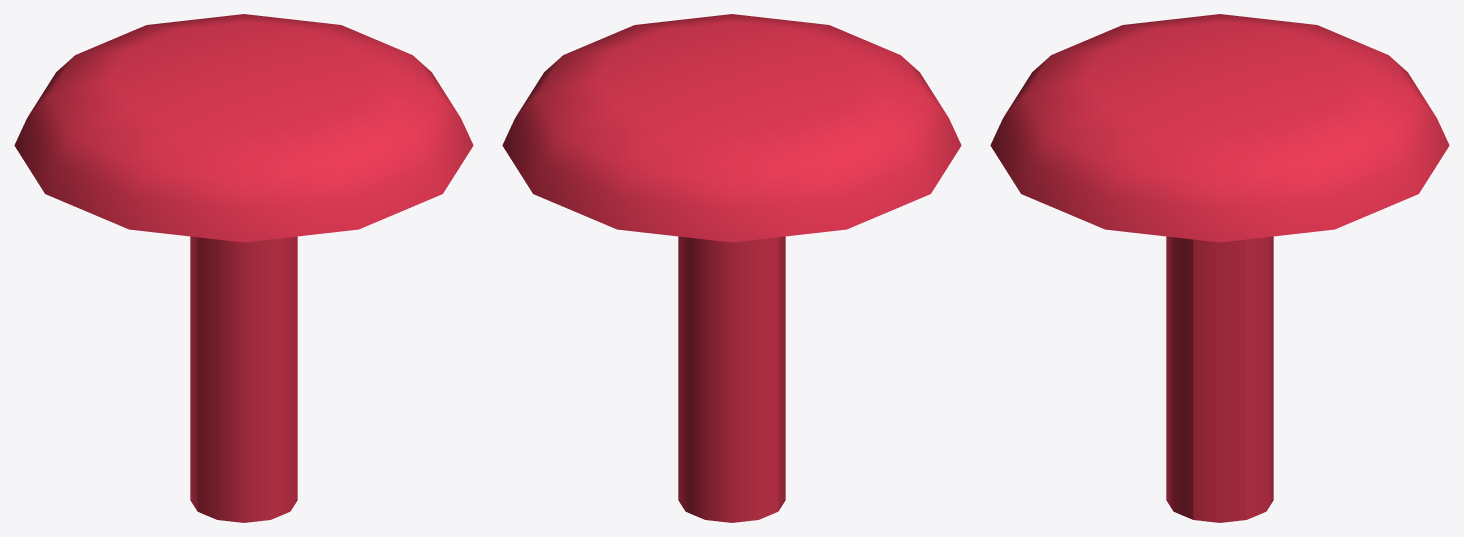
The model's file is JoyStick.fbx.
3 renders of one model, left to right at view 1: azimuth 30°, elevation 25°; view 2: azimuth 150°, elevation 25°; view 3: azimuth 270°, elevation 25°, orthographic.
Visible parts, largest first — view 1: 柱体.001; view 2: 柱体.001; view 3: 柱体.001.
Part boxes in pixels (x1,y1,x2,y2): 柱体.001: (14, 14, 473, 522); 柱体.001: (502, 14, 961, 522); 柱体.001: (990, 14, 1449, 522).
Size of the model in its own units: 1.05 by 1.07 by 1.05.
